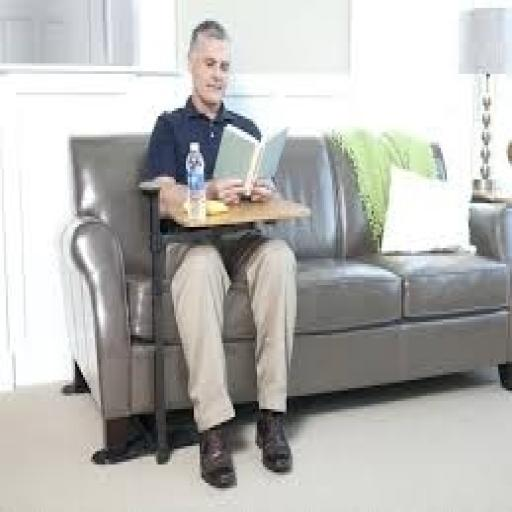sitting: (136, 16, 302, 488)
